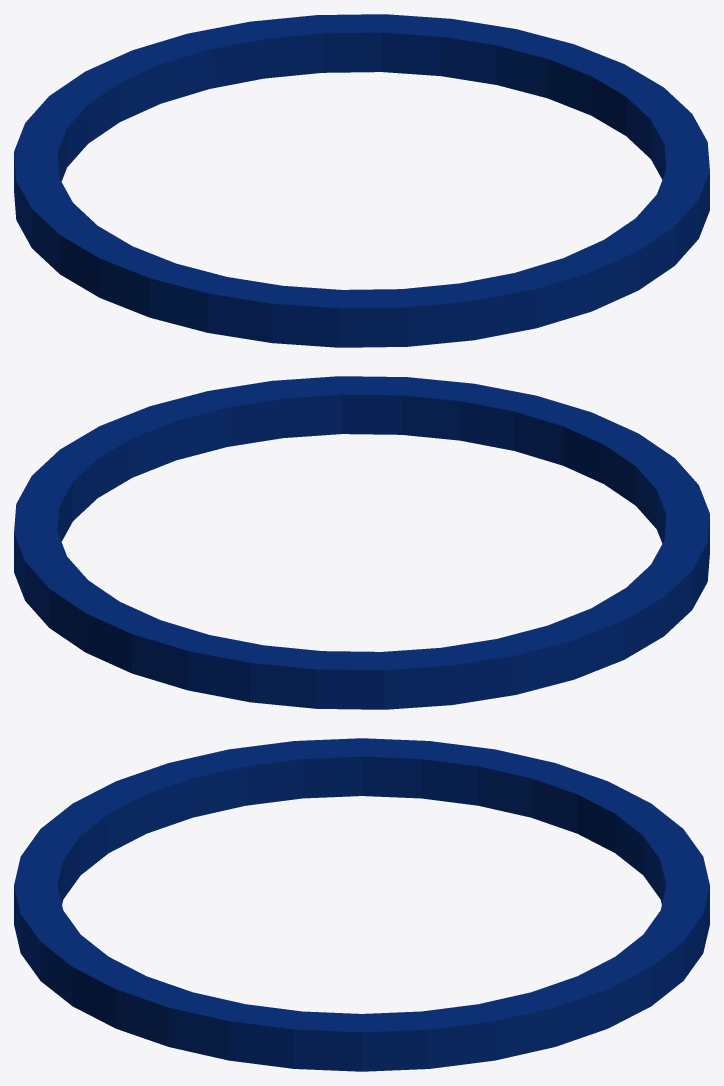
Rendered from Arc07.glb.
3 renders of one model, top to bottom at view 1: azimuth 30°, elevation 25°; view 2: azimuth 150°, elevation 25°; view 3: azimuth 270°, elevation 25°, orthographic.
Parts seen in each view (by area): view 1: Arc.07; view 2: Arc.07; view 3: Arc.07.
Boxes of the visible parts, x1,y1,x2,y2 form: Arc.07: (14, 14, 709, 347); Arc.07: (14, 376, 709, 709); Arc.07: (14, 738, 709, 1071).
Bounding box in the file's own units: 16 × 1 × 16.
